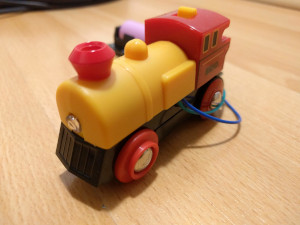brio: (49, 8, 234, 188)
